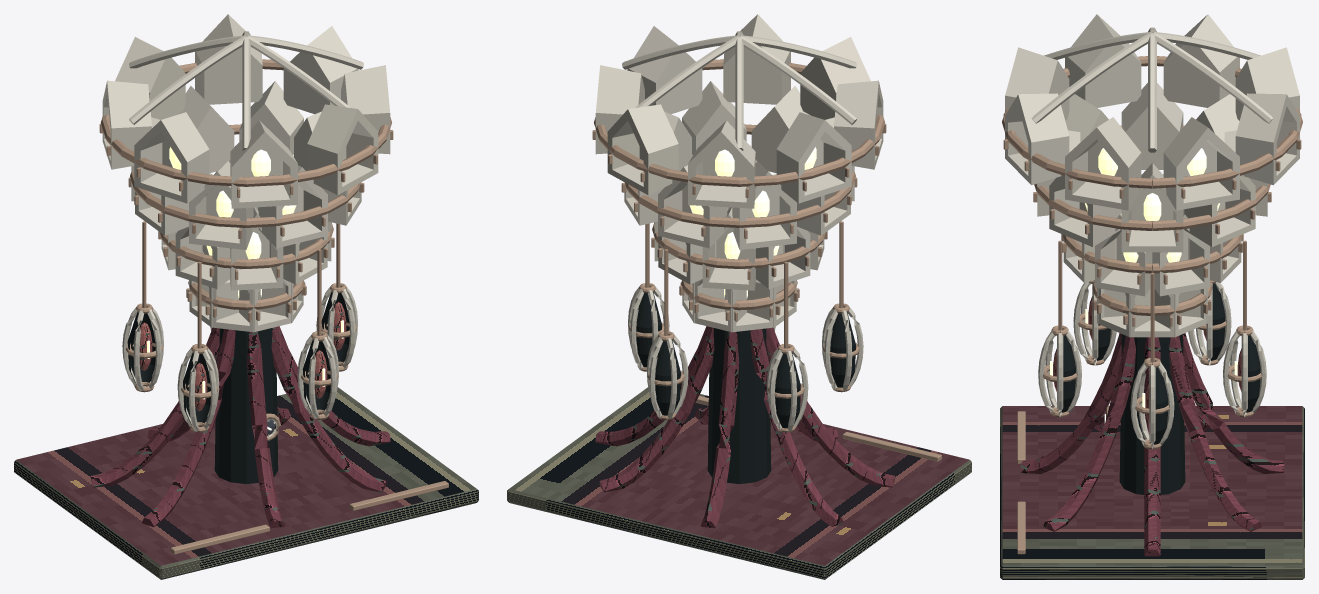
File: nursery_cell_canopy.glb
3 renders of one model, left to right at view 1: azimuth 30°, elevation 25°; view 2: azimuth 150°, elevation 25°; view 3: azimuth 270°, elevation 25°, orthographic. The views are drawn at different scales.
Parts seen in each view (by area): view 1: nursery_cell_canopy_warm, nursery_cell_canopy_petrol, nursery_cell_canopy_worn, nursery_cell_canopy_bruised, nursery_cell_canopy_suture, nursery_cell_canopy_sick; view 2: nursery_cell_canopy_warm, nursery_cell_canopy_petrol, nursery_cell_canopy_worn, nursery_cell_canopy_bruised, nursery_cell_canopy_sick; view 3: nursery_cell_canopy_warm, nursery_cell_canopy_petrol, nursery_cell_canopy_worn, nursery_cell_canopy_bruised, nursery_cell_canopy_sick, nursery_cell_canopy_suture.
Boxes of the visible parts, x1,y1,x2,y2 form: nursery_cell_canopy_warm: (102,14,390,437); nursery_cell_canopy_petrol: (14,292,478,579); nursery_cell_canopy_worn: (99,59,448,554); nursery_cell_canopy_bruised: (90,326,390,528); nursery_cell_canopy_suture: (139,302,346,411); nursery_cell_canopy_sick: (147,147,343,430); nursery_cell_canopy_warm: (595,14,883,431); nursery_cell_canopy_petrol: (507,292,971,579); nursery_cell_canopy_worn: (592,59,941,461); nursery_cell_canopy_bruised: (595,326,895,528); nursery_cell_canopy_sick: (689,147,816,298); nursery_cell_canopy_warm: (1005,14,1299,448); nursery_cell_canopy_petrol: (1000,283,1304,579); nursery_cell_canopy_worn: (1002,56,1302,554); nursery_cell_canopy_bruised: (1020,333,1284,556); nursery_cell_canopy_sick: (1050,148,1237,423); nursery_cell_canopy_suture: (1053,296,1241,423).
Size of the model in its own units: 5.7 by 7.7 by 4.55.
Materials: 7 (3 with a texture image).
